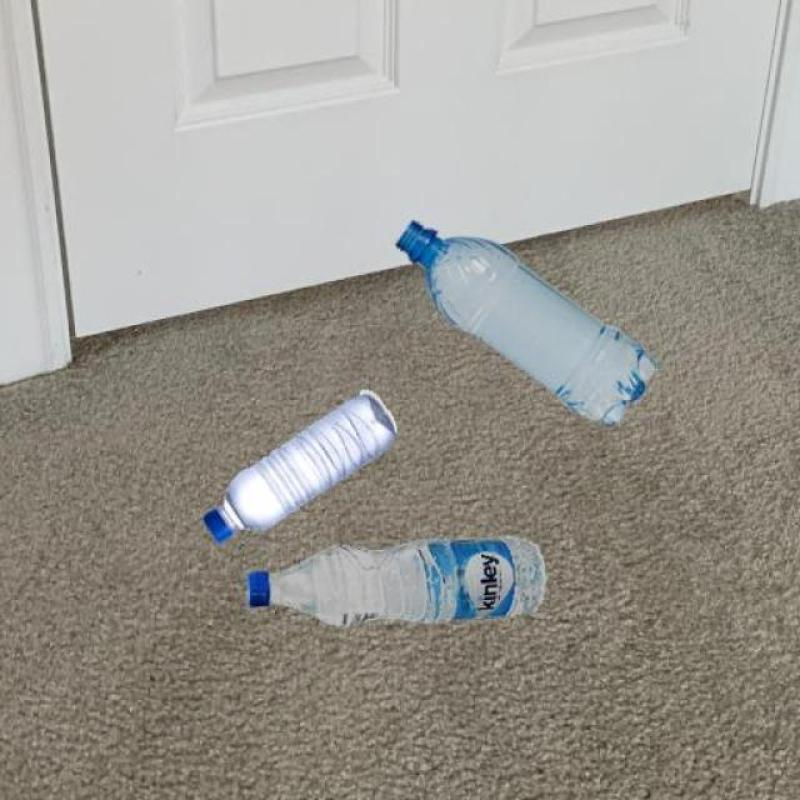botella: (396, 222, 656, 426), (206, 390, 404, 540), (248, 538, 553, 631)
